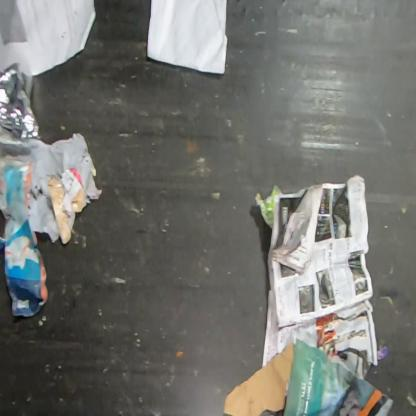cardboard: (223, 337, 295, 415)
metal: (0, 61, 42, 141)
soft_plastic: (0, 123, 103, 243)
